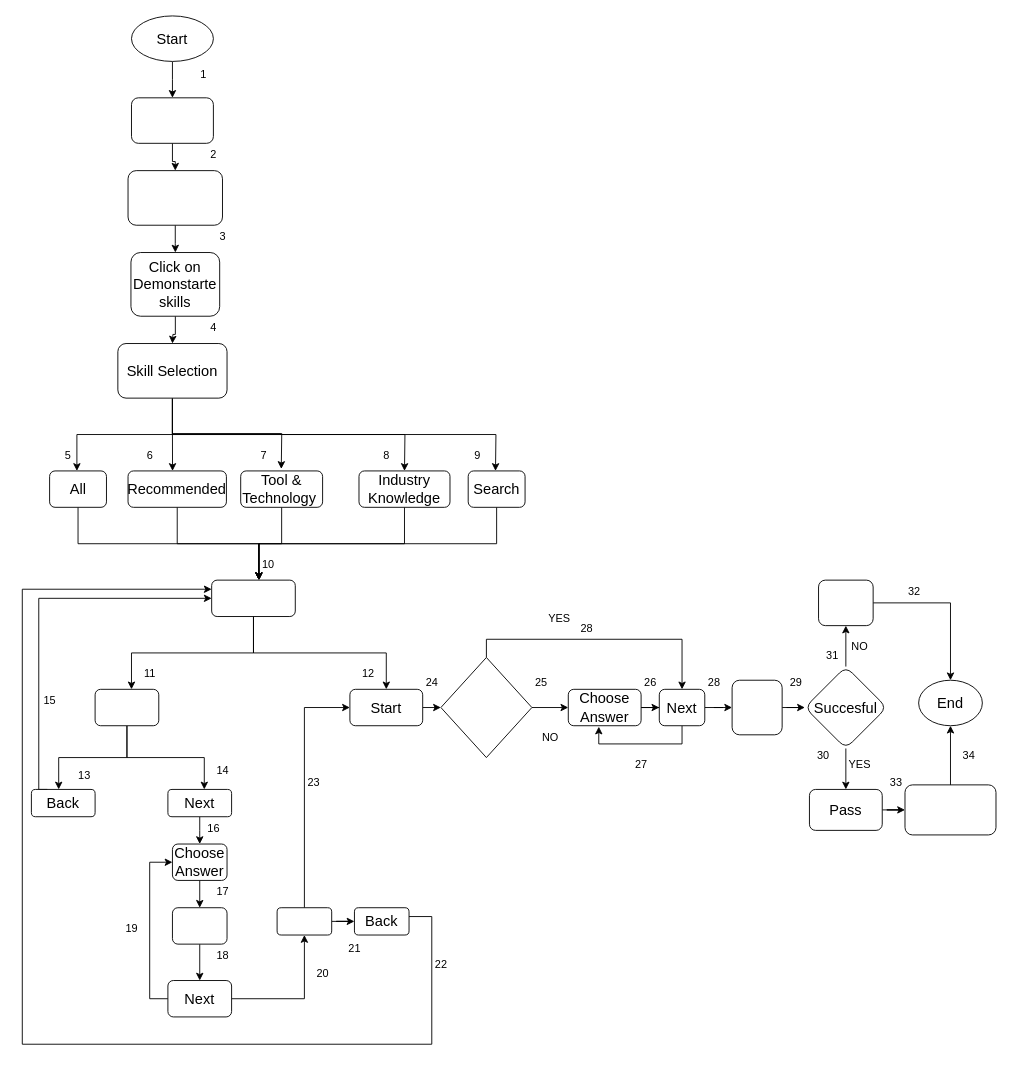
This 1012x1067 diagram has some shape labels left out. Here are the shapes that lost their labels. From the top down, the centre of each, then its label:
At point (172, 120): "Logged In".
At point (174, 197): "Go to personal profile".
At point (253, 598): "Skill Selected".
At point (845, 602): "Failed".
At point (126, 707): "Practice".
At point (486, 707): "TIme limit expired".
At point (756, 707): "View Results".
At point (950, 809): "Skill badge earned".
At point (199, 925): "Check Answer".
At point (304, 921): "Finish".
